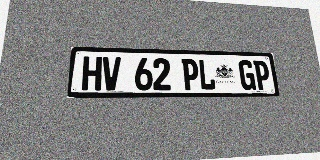2: (153, 58, 171, 90)
6: (135, 57, 153, 90)
G: (238, 60, 256, 90)
H: (81, 56, 102, 90)
L: (198, 59, 216, 90)
P: (181, 59, 199, 90), (253, 60, 271, 90)
V: (102, 57, 121, 90)
